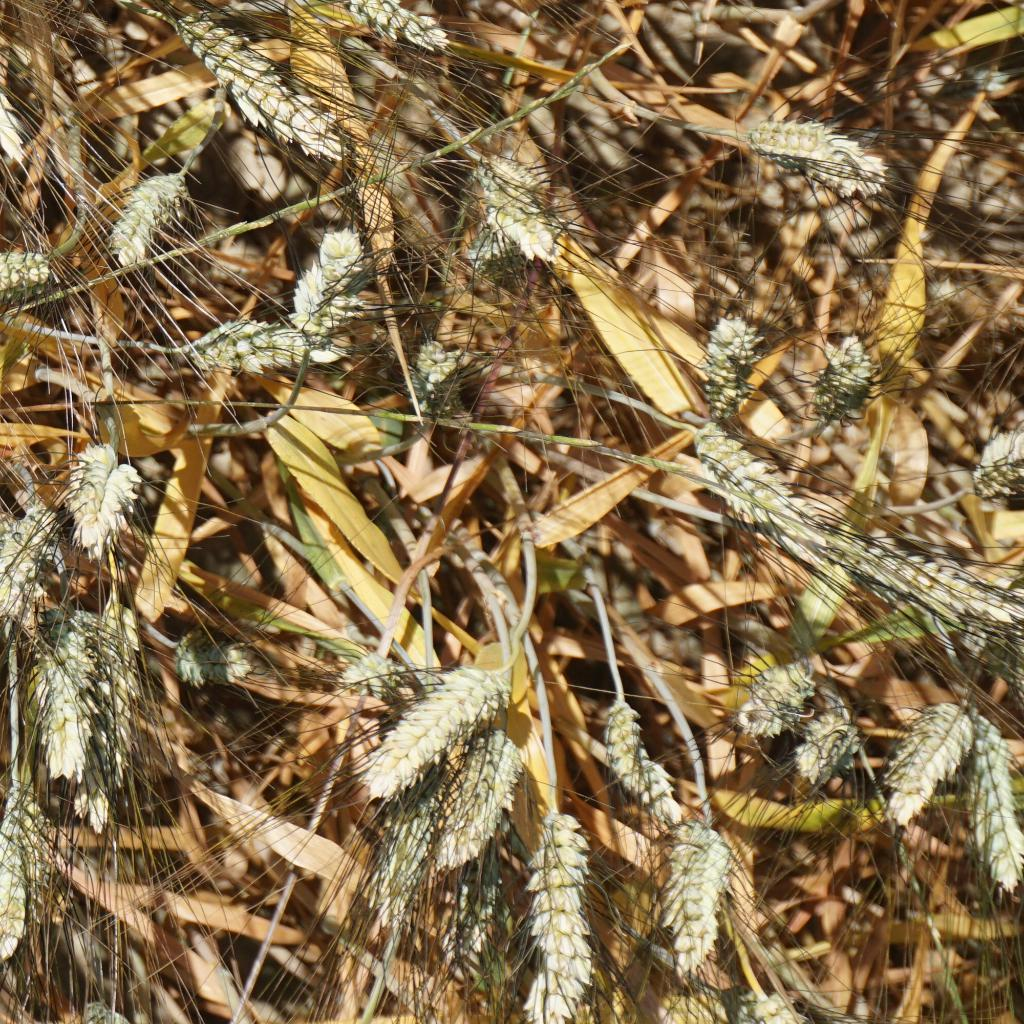0-0: (692, 423, 851, 578), (167, 11, 338, 155), (810, 513, 1005, 627), (176, 308, 365, 390), (745, 119, 912, 197), (361, 664, 489, 763), (954, 723, 1024, 900), (473, 152, 577, 263), (603, 688, 687, 822), (58, 438, 147, 563), (871, 688, 960, 806), (515, 809, 592, 944), (278, 230, 369, 339), (355, 772, 425, 911), (442, 738, 512, 861), (665, 819, 720, 972), (398, 334, 477, 435), (112, 170, 193, 265), (320, 0, 453, 55), (520, 937, 600, 1020), (729, 643, 804, 731), (47, 607, 131, 685), (807, 334, 881, 420), (960, 403, 1024, 500), (448, 853, 499, 974), (0, 0, 35, 175), (460, 166, 519, 263), (696, 314, 751, 416), (9, 641, 89, 711), (772, 699, 848, 771), (0, 512, 45, 610), (0, 817, 29, 952), (175, 634, 252, 682), (338, 643, 402, 699), (713, 984, 799, 1024), (0, 234, 48, 305), (0, 504, 34, 556), (314, 103, 351, 135)
